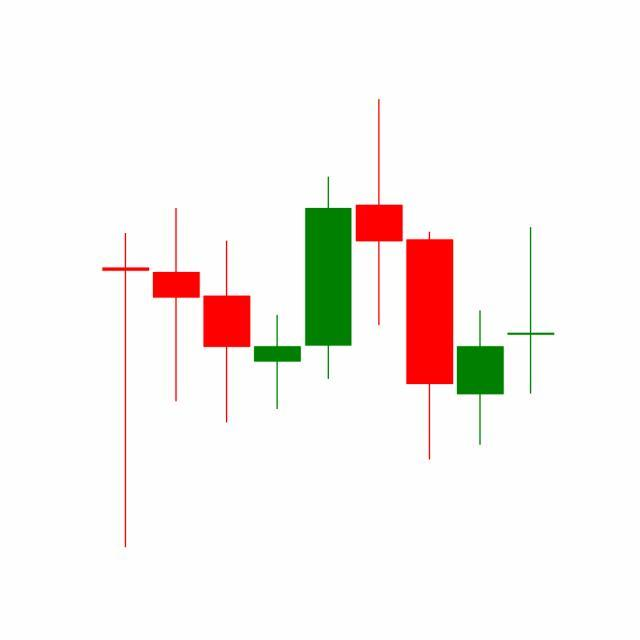Hikkake Pattern: (302, 99, 555, 464)
